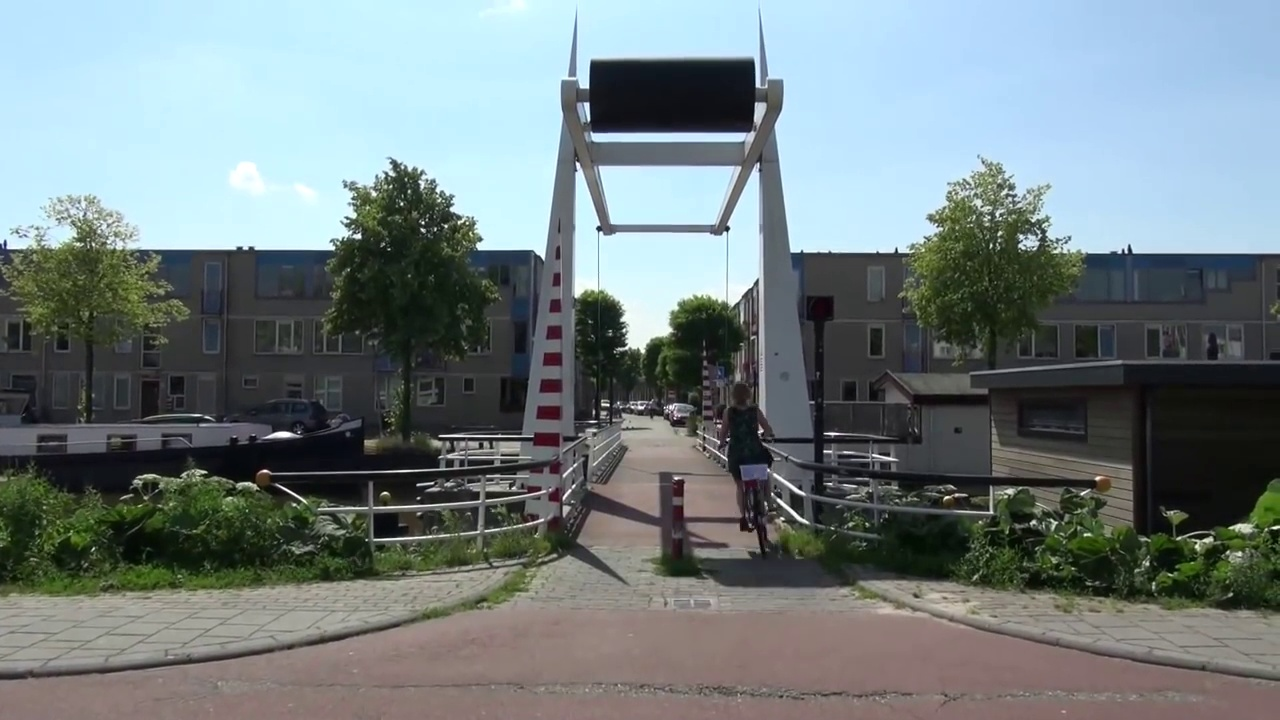cyclist_back: (722, 373, 786, 565)
